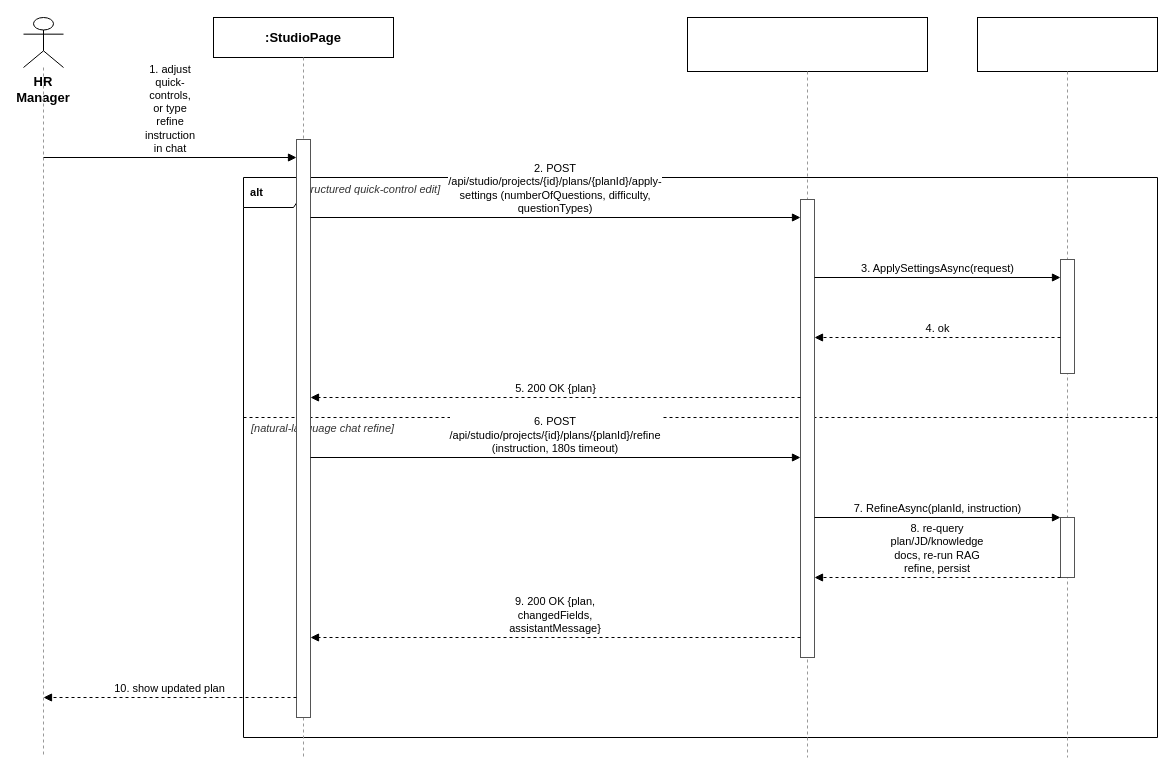
This 1176x776 diagram has some shape labels left out. The centre of each missing label's shape, as x and y in pixels:
":InterviewPlanService" goes at pixel 1067 44.
":StudioInterviewPlansController" goes at pixel 807 44.
